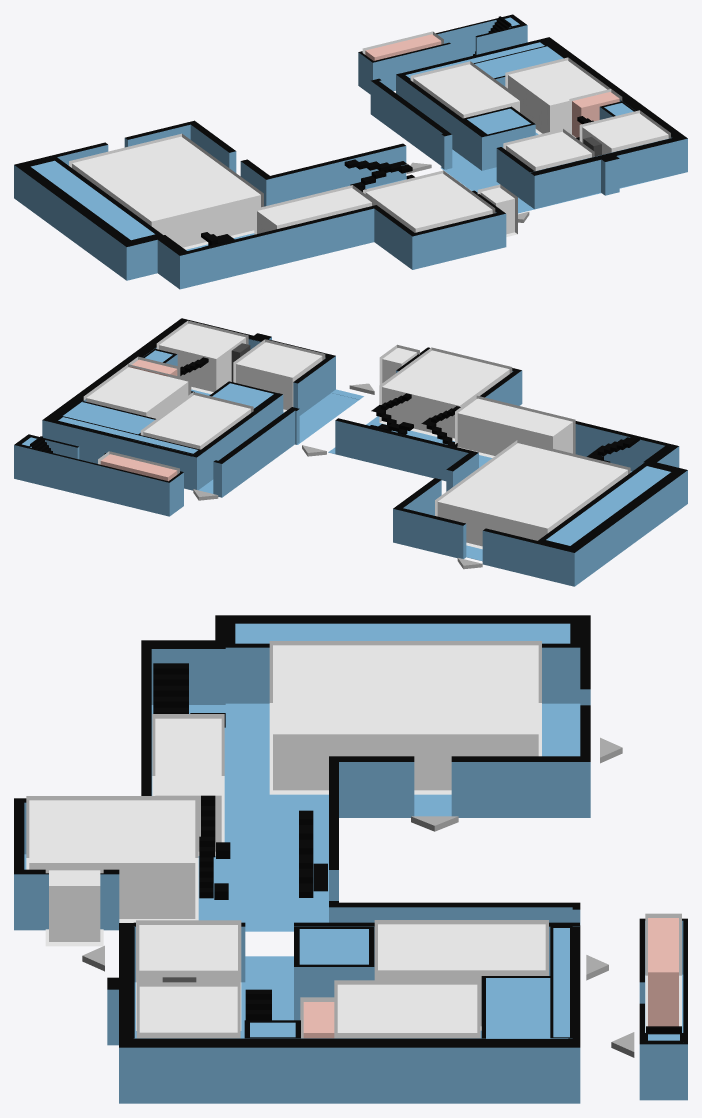
3 renders of one model, top to bottom at view 1: azimuth 30°, elevation 25°; view 2: azimuth 150°, elevation 25°; view 3: azimuth 270°, elevation 25°, orthographic. The views are drawn at different scales.
Visible parts, largest first — view 1: object, room_4_1_5, room_4_1_8, room_4_1_2, room_4_1_4, room_4_1_6, room_4_1_1, room_4_1_7, トイレ_4_1_2, object_line.001, トイレ_4_1_1, 階段_4_1_3 (+5 smaller); view 2: object, room_4_1_5, room_4_1_8, room_4_1_6, room_4_1_1, room_4_1_4, room_4_1_2, room_4_1_7, トイレ_4_1_1, object_line.001, object_line.003, object_line (+8 smaller); view 3: object, room_4_1_5, room_4_1_8, room_4_1_4, room_4_1_2, room_4_1_6, room_4_1_7, room_4_1_1, room_4_1_3, トイレ_4_1_1, object_line.001, 階段_4_1_6 (+12 smaller).
Part boxes in pixels (x1,y1,x2,y2): object: (14,14,687,289); room_4_1_5: (72,136,260,247); room_4_1_8: (365,173,492,232); room_4_1_2: (508,60,609,133); room_4_1_4: (413,64,519,118); room_4_1_6: (257,188,371,233); room_4_1_1: (582,113,668,154); room_4_1_7: (506,131,591,171); トイレ_4_1_2: (572,92,619,137); object_line.001: (69,133,263,249); トイレ_4_1_1: (365,34,441,60); 階段_4_1_3: (344,159,412,188); object: (14,318,687,586); room_4_1_5: (437,443,627,546); room_4_1_8: (382,350,509,438); room_4_1_6: (457,398,572,455); room_4_1_1: (159,323,245,391); room_4_1_4: (143,395,250,449); room_4_1_2: (86,367,188,418); room_4_1_7: (236,342,322,410); トイレ_4_1_1: (100,454,177,481); object_line.001: (435,440,630,549); object_line.003: (379,347,512,441); object_line: (455,395,575,457); object: (14,615,687,1103); room_4_1_5: (273,645,538,790); room_4_1_8: (29,800,195,918); room_4_1_4: (378,924,545,1026); room_4_1_2: (337,984,477,1038); room_4_1_6: (155,718,221,851); room_4_1_7: (139,925,237,982); room_4_1_1: (139,986,237,1038); room_4_1_3: (49,870,100,941); トイレ_4_1_1: (648,918,678,1026); object_line.001: (269,641,541,794); 階段_4_1_6: (153,663,225,727).
Size of the model in its own units: 2.72 by 0.186 by 1.79.
